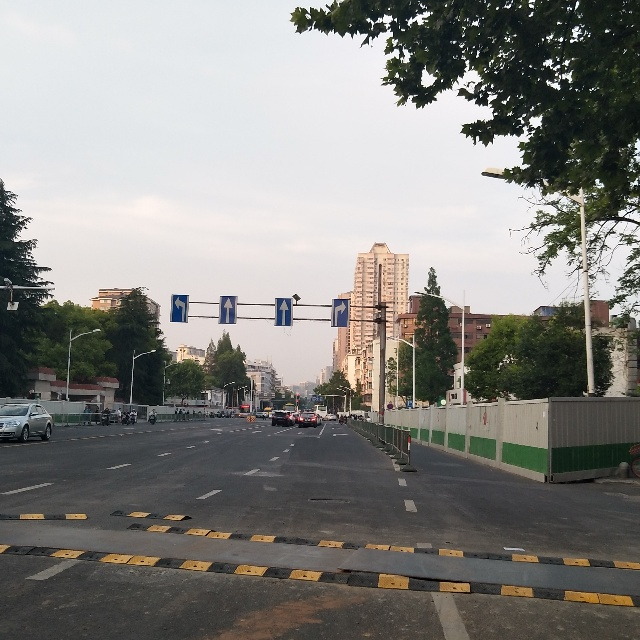left: (171, 296, 185, 320)
right: (335, 300, 349, 327)
straight: (279, 298, 293, 325), (220, 296, 234, 322)
